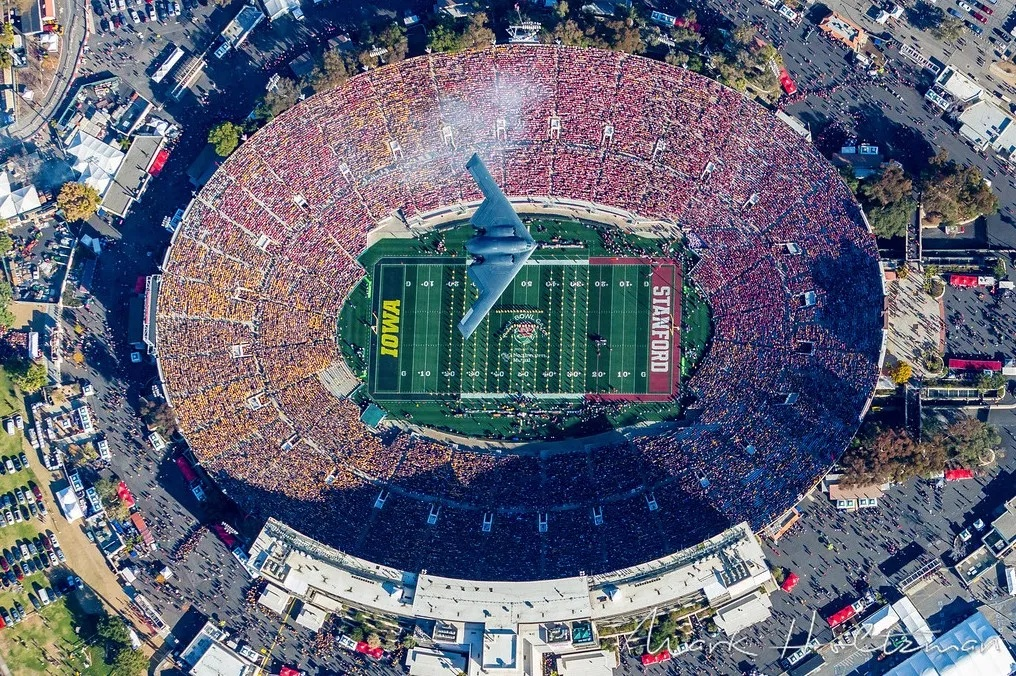B2: (456, 152, 539, 341)
